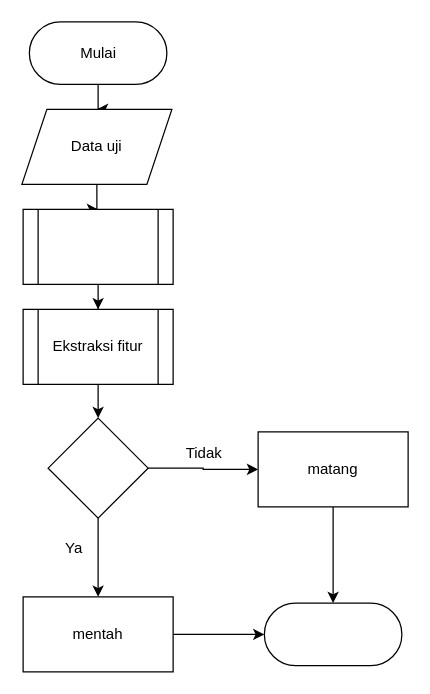
The diagram is 430 pixels wide and 694 high, and some of its shapes have lost their labels. Each missing label, with the box of its shape:
Apakah f1 > f2?: (47, 417, 148, 518)
Preprocessing: (22, 208, 173, 284)
Selesai: (263, 602, 402, 666)
